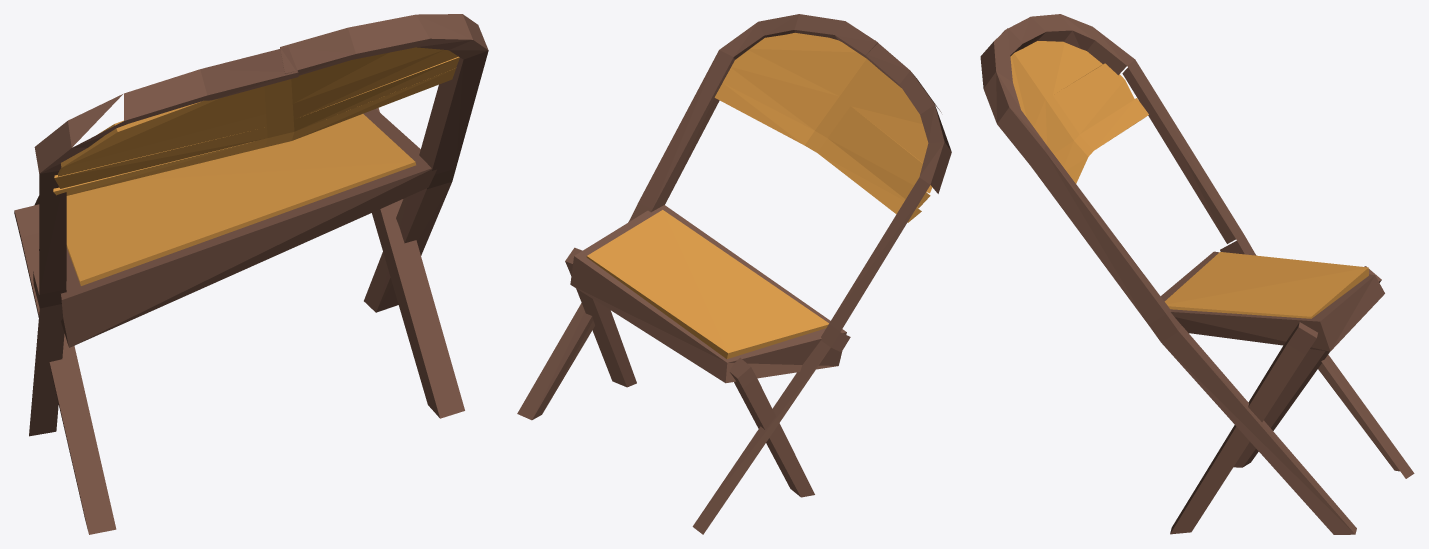
Rendered from Chair.glb.
The picture shows the model from 3 angles, left to right: view 1: azimuth 30°, elevation 25°; view 2: azimuth 150°, elevation 25°; view 3: azimuth 270°, elevation 25°; orthographic projection. The views are drawn at different scales.
Visible parts, largest first — view 1: Node; view 2: Node; view 3: Node.
Part boxes in pixels (left/top/right/bottom): Node: left=14, top=14, right=488, bottom=534; Node: left=517, top=14, right=951, bottom=534; Node: left=980, top=14, right=1414, bottom=534.
Bounding box in the file's own units: 1.03 × 1.17 × 1.
